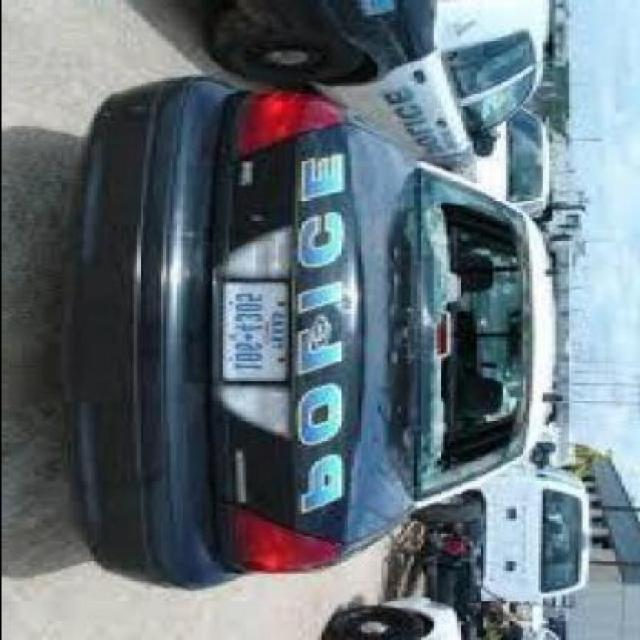damage: (422, 168, 535, 494)
